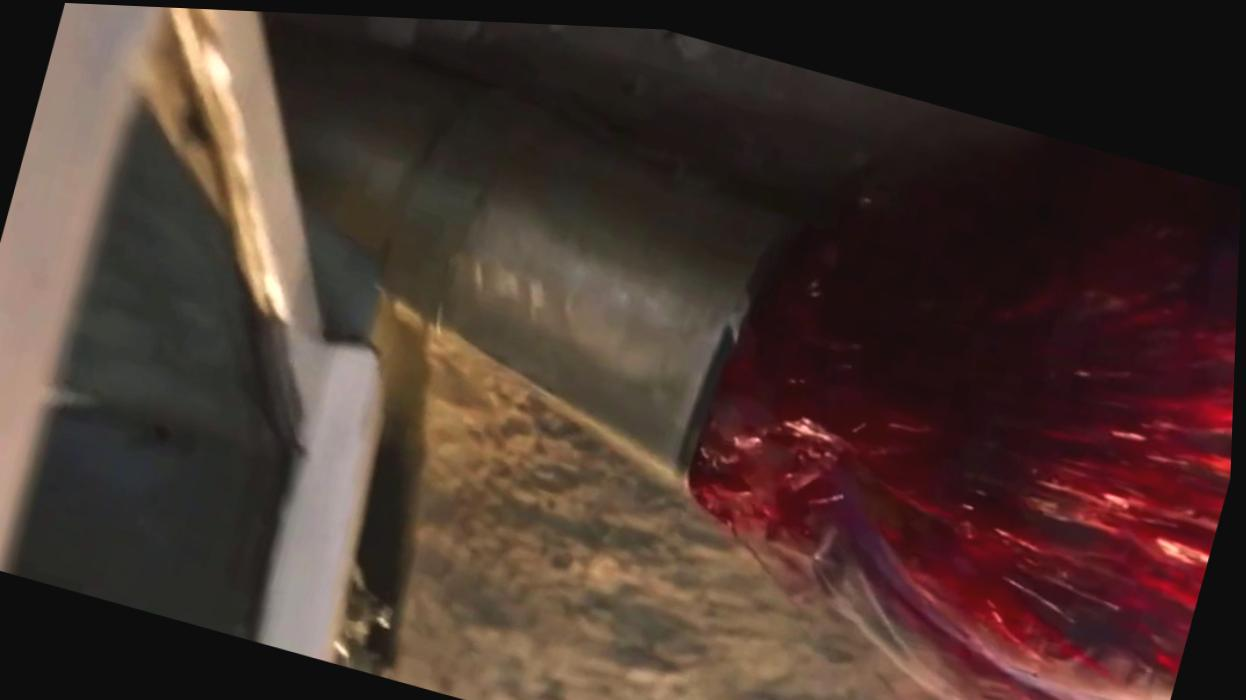Fire: (690, 128, 1242, 700)
